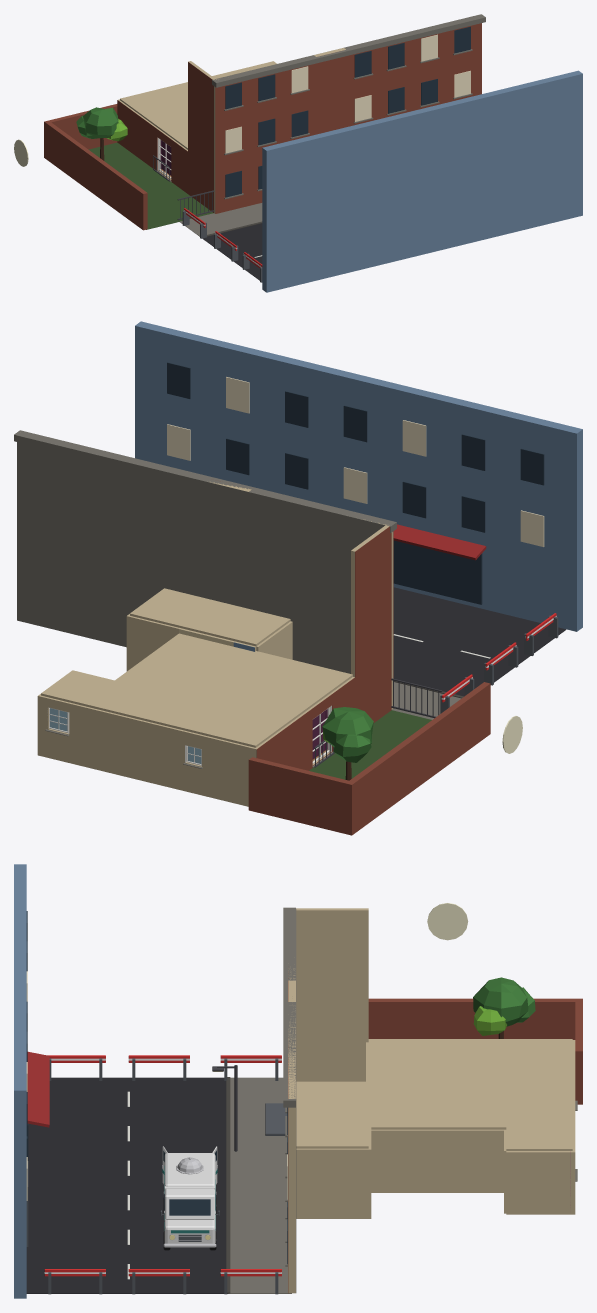
Rendered from house_b.glb.
3 views of the same model, one above another, from view 1: azimuth 30°, elevation 25°; view 2: azimuth 150°, elevation 25°; view 3: azimuth 270°, elevation 25° (orthographic). The views are drawn at different scales.
Parts seen in each view (by area): view 1: opposite_block, facade_0_n, facade_2_n, court_wall_w, wall_w_gary_0_n, floor_courtyard, facade_cornice, facade_1_n, floor_road, ceiling_kitchen, floor_pavement, ceiling_dining (+20 smaller); view 2: opposite_block, facade_2_p, facade_0_p, floor_road, court_wall_w, ceiling_dining, wall_w_gary_0_n, court_wall_n, facade_1_p, ceiling_lobby, shop_front, ceiling_hall (+33 smaller); view 3: floor_road, wall_w_gary_0, floor_pavement, wall_e_hall_0, ceiling_dining, court_wall_w, opposite_block, wall_e_lobby_0, van_body, ceiling_lobby, wall_e_bedroom_0, ceiling_hall (+12 smaller).
Boxes of the visible parts, left/top/right/bottom form: opposite_block: left=262, top=70, right=582, bottom=292; facade_0_n: left=215, top=63, right=316, bottom=213; facade_2_n: left=346, top=23, right=481, bottom=126; court_wall_w: left=44, top=120, right=147, bottom=230; wall_w_gary_0_n: left=188, top=62, right=213, bottom=212; floor_courtyard: left=88, top=142, right=213, bottom=229; facade_cornice: left=212, top=14, right=485, bottom=87; facade_1_n: left=316, top=56, right=346, bottom=134; floor_road: left=202, top=223, right=262, bottom=280; ceiling_kitchen: left=120, top=83, right=187, bottom=116; floor_pavement: left=179, top=203, right=262, bottom=236; ceiling_dining: left=142, top=104, right=187, bottom=149; opposite_block: left=135, top=321, right=582, bottom=631; facade_2_p: left=17, top=435, right=206, bottom=647; facade_0_p: left=248, top=492, right=385, bottom=673; floor_road: left=393, top=587, right=566, bottom=696; court_wall_w: left=345, top=682, right=490, bottom=834; ceiling_dining: left=170, top=647, right=352, bottom=724; wall_w_gary_0_n: left=355, top=526, right=391, bottom=722; court_wall_n: left=248, top=757, right=355, bottom=835; facade_1_p: left=206, top=481, right=248, bottom=608; ceiling_lobby: left=130, top=588, right=290, bottom=646; shop_front: left=393, top=540, right=482, bottom=604; ceiling_hall: left=115, top=633, right=233, bottom=693; floor_road: left=26, top=1077, right=228, bottom=1293; wall_w_gary_0: left=296, top=908, right=368, bottom=1081; floor_pavement: left=228, top=1077, right=291, bottom=1293; wall_e_hall_0: left=371, top=1129, right=506, bottom=1192; ceiling_dining: left=368, top=1039, right=506, bottom=1099; court_wall_w: left=368, top=998, right=582, bottom=1039; opposite_block: left=14, top=864, right=26, bottom=1298; wall_e_lobby_0: left=296, top=1148, right=368, bottom=1218; van_body: left=160, top=1153, right=219, bottom=1250; ceiling_lobby: left=296, top=1081, right=368, bottom=1148; wall_e_bedroom_0: left=506, top=1151, right=572, bottom=1214; ceiling_hall: left=371, top=1099, right=506, bottom=1129.
Bounding box in the file's own units: 27.5 × 9.02 × 22.3.
1 material, 1 textured.
